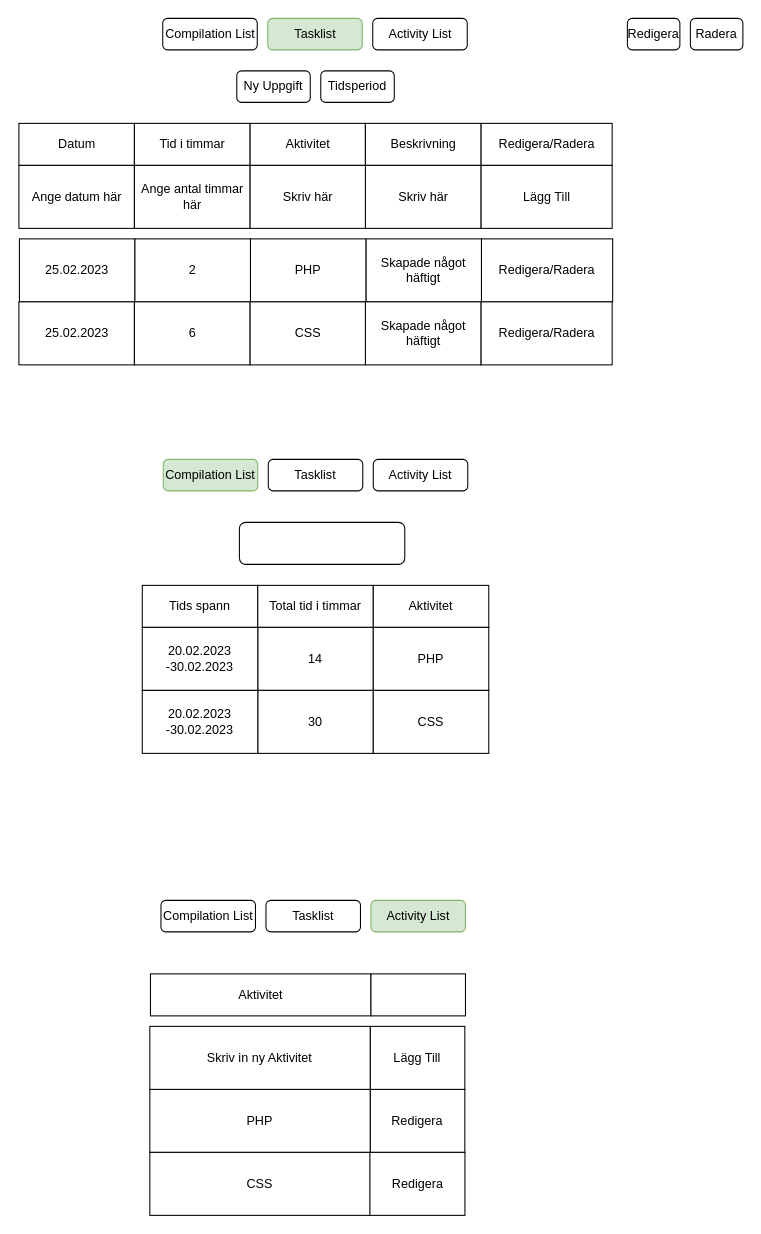
The diagram is 761 pixels wide and 1234 high, and some of its shapes have lost their labels. The shapes that lost their labels are listed below. From the top down, each one's box as (x1, y1, x2, y2) in pixels, then its label:
(238, 521, 405, 564): Ange tid spann i datum
(370, 973, 465, 1016): Skapa/Redigera
